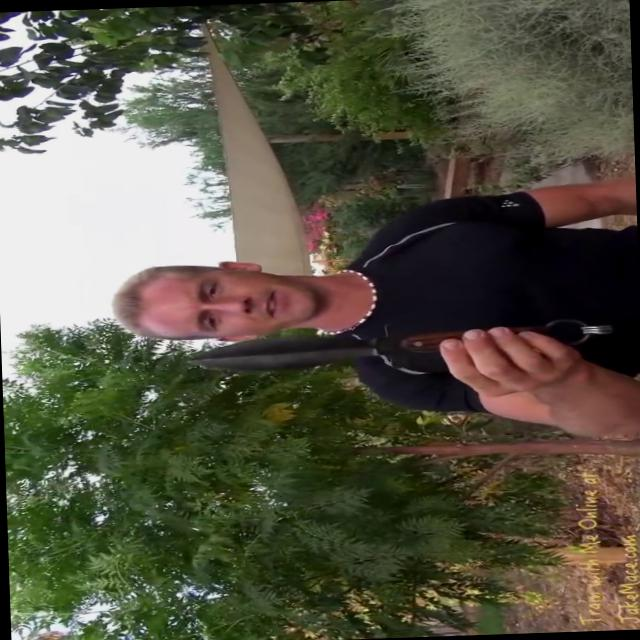knife: (175, 308, 611, 386)
